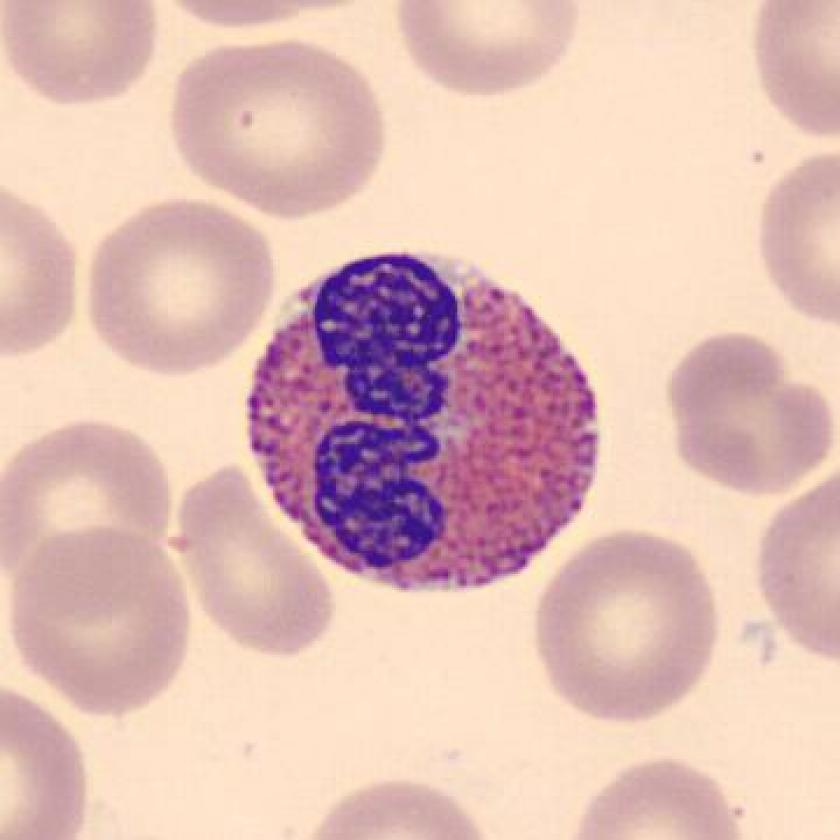eosinophil: (227, 242, 622, 607)
